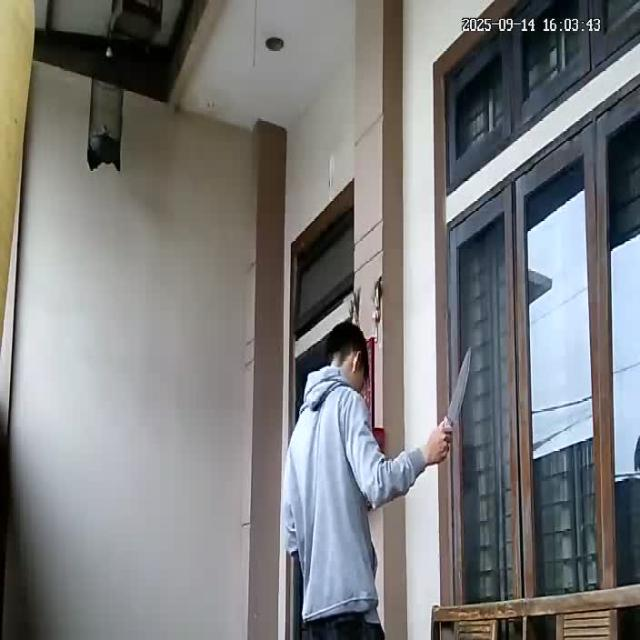senjata_tajam: (447, 344, 473, 425)
